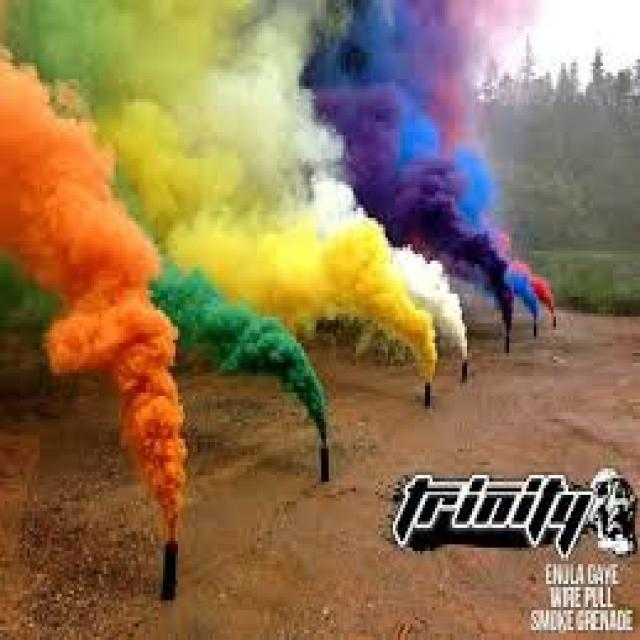Smoke: (0, 0, 554, 541)
